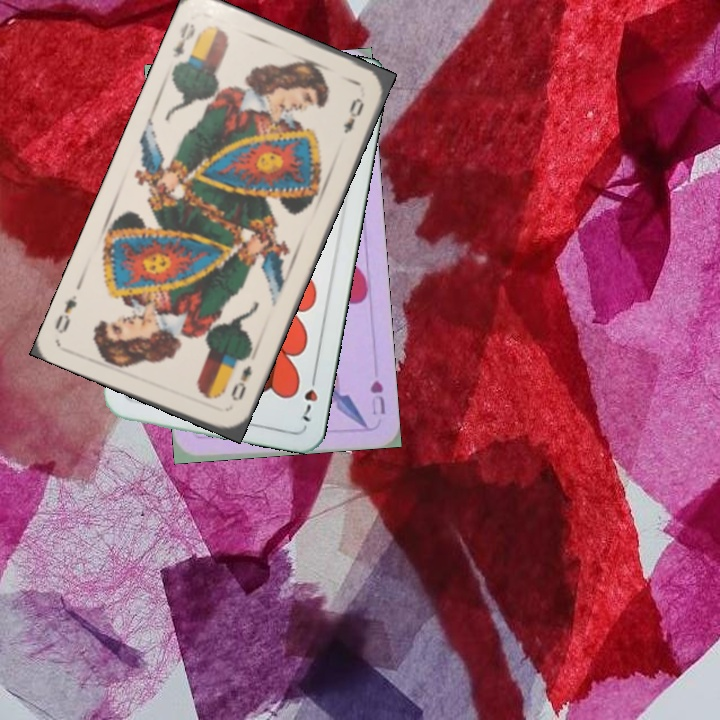EO: (168, 18, 199, 61), (226, 361, 255, 404)
H7: (297, 368, 321, 425)
HU: (366, 377, 388, 417)
